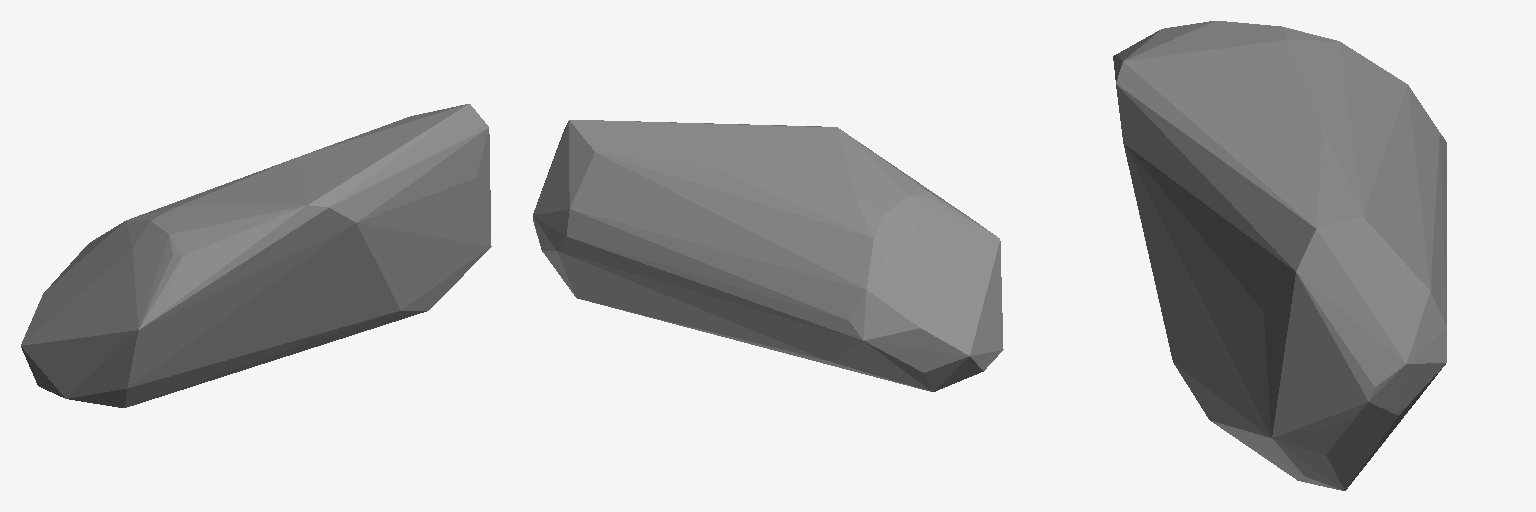
URDF robot description (70_307):
<?xml version="1.0"?>
<robot name="70_307">
  <link name="link">
    <contact>
      <lateral_friction value="0.6"/>
    </contact>
    <inertial>
      <origin xyz="-0.001843053120729799 -0.004343427977858225 -0.0036377562966730245" rpy="0 0 0"/>
      <mass value = "0.4120450336729419"/>
      <inertia ixx="0.0001876577377045855" ixy="1.2528239388096911e-05" ixz="8.55721449859845e-06" iyy="0.0002269422051953278" iyz="4.303764736707901e-06" izz="0.00030593647953532126" />
    </inertial>
    <visual name="visual">
      <geometry>
        <mesh filename="70_307.obj"/>
      </geometry>
      <material name="material">
        <color rgba="0.5798005672193215 0.5798005672193215 0.5798005672193215 1.0"/>
      </material>
    </visual>
    <collision name="collision">
      <geometry>
        <mesh filename="70_307.obj"/>
      </geometry>
    </collision>
  </link>
</robot>

--- Render facts (derived) ---
Views: 3 orthographic renders of the robot side by side, from view 1: azimuth 30°, elevation 25°; view 2: azimuth 150°, elevation 25°; view 3: azimuth 270°, elevation 25°.
Model 70_307 with 1 links and 0 joints (none), rooted at link, posed all joints at 0.
Links seen in each view (by area): view 1: link; view 2: link; view 3: link.
Link boxes in pixels (x1,y1,x2,y2): link: (21, 104, 491, 407); link: (533, 120, 1003, 391); link: (1113, 21, 1446, 490).
Bounding box of the posed robot: 0.1217 × 0.0502 × 0.0482 m (x, y, z).
Meshes: 1 distinct files referenced, 1 mesh visuals loaded (1 OBJ).
